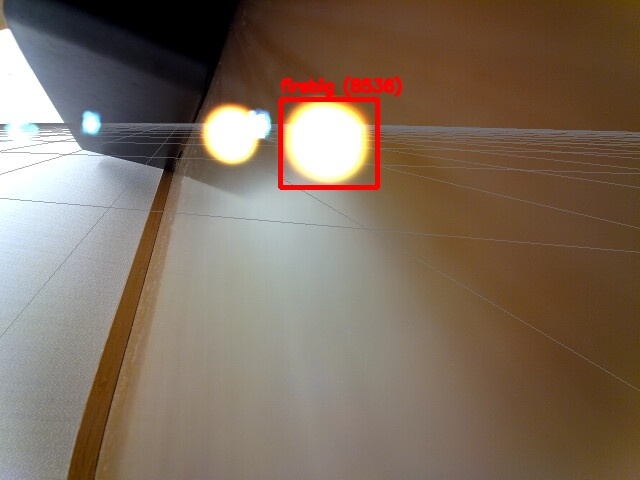firebig: (280, 99, 377, 187)
